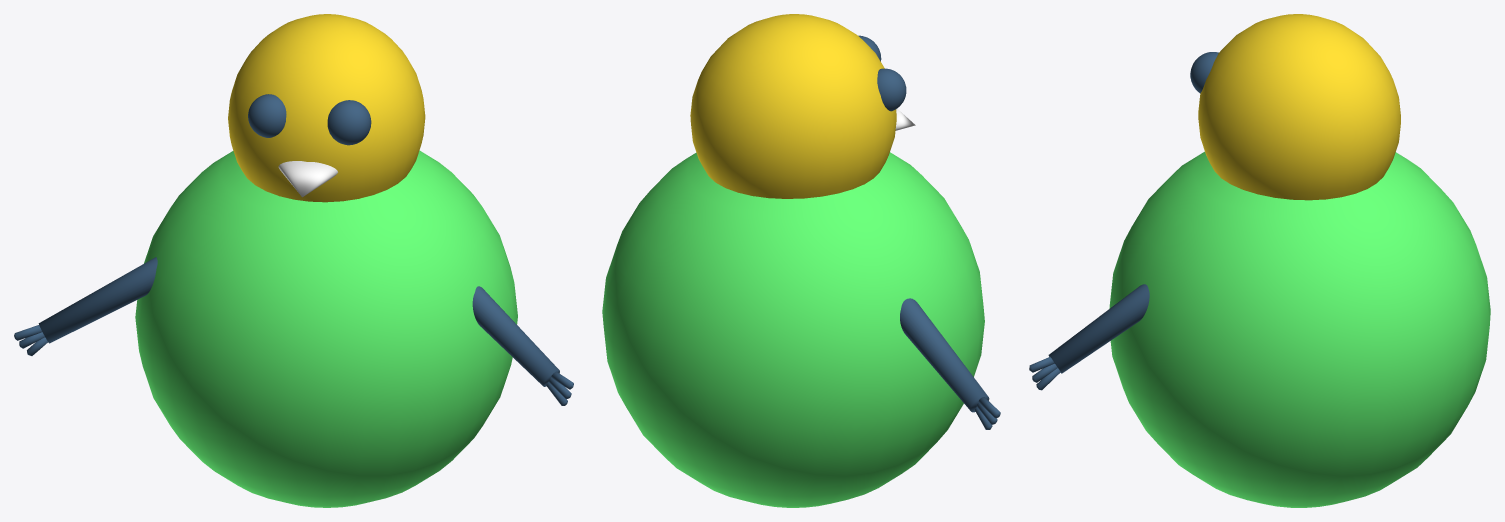
File: ToyObject_082.fbx
3 renders of one model, left to right at view 1: azimuth 30°, elevation 25°; view 2: azimuth 150°, elevation 25°; view 3: azimuth 270°, elevation 25°, orthographic.
Parts seen in each view (by area): view 1: object-1.037; view 2: object-1.037; view 3: object-1.037.
Part boxes in pixels (x1,y1,x2,y2): object-1.037: [14, 14, 573, 507]; object-1.037: [602, 14, 1000, 507]; object-1.037: [1029, 14, 1490, 507].
Size of the model in its own units: 0.1178 by 0.1238 by 0.1109.
